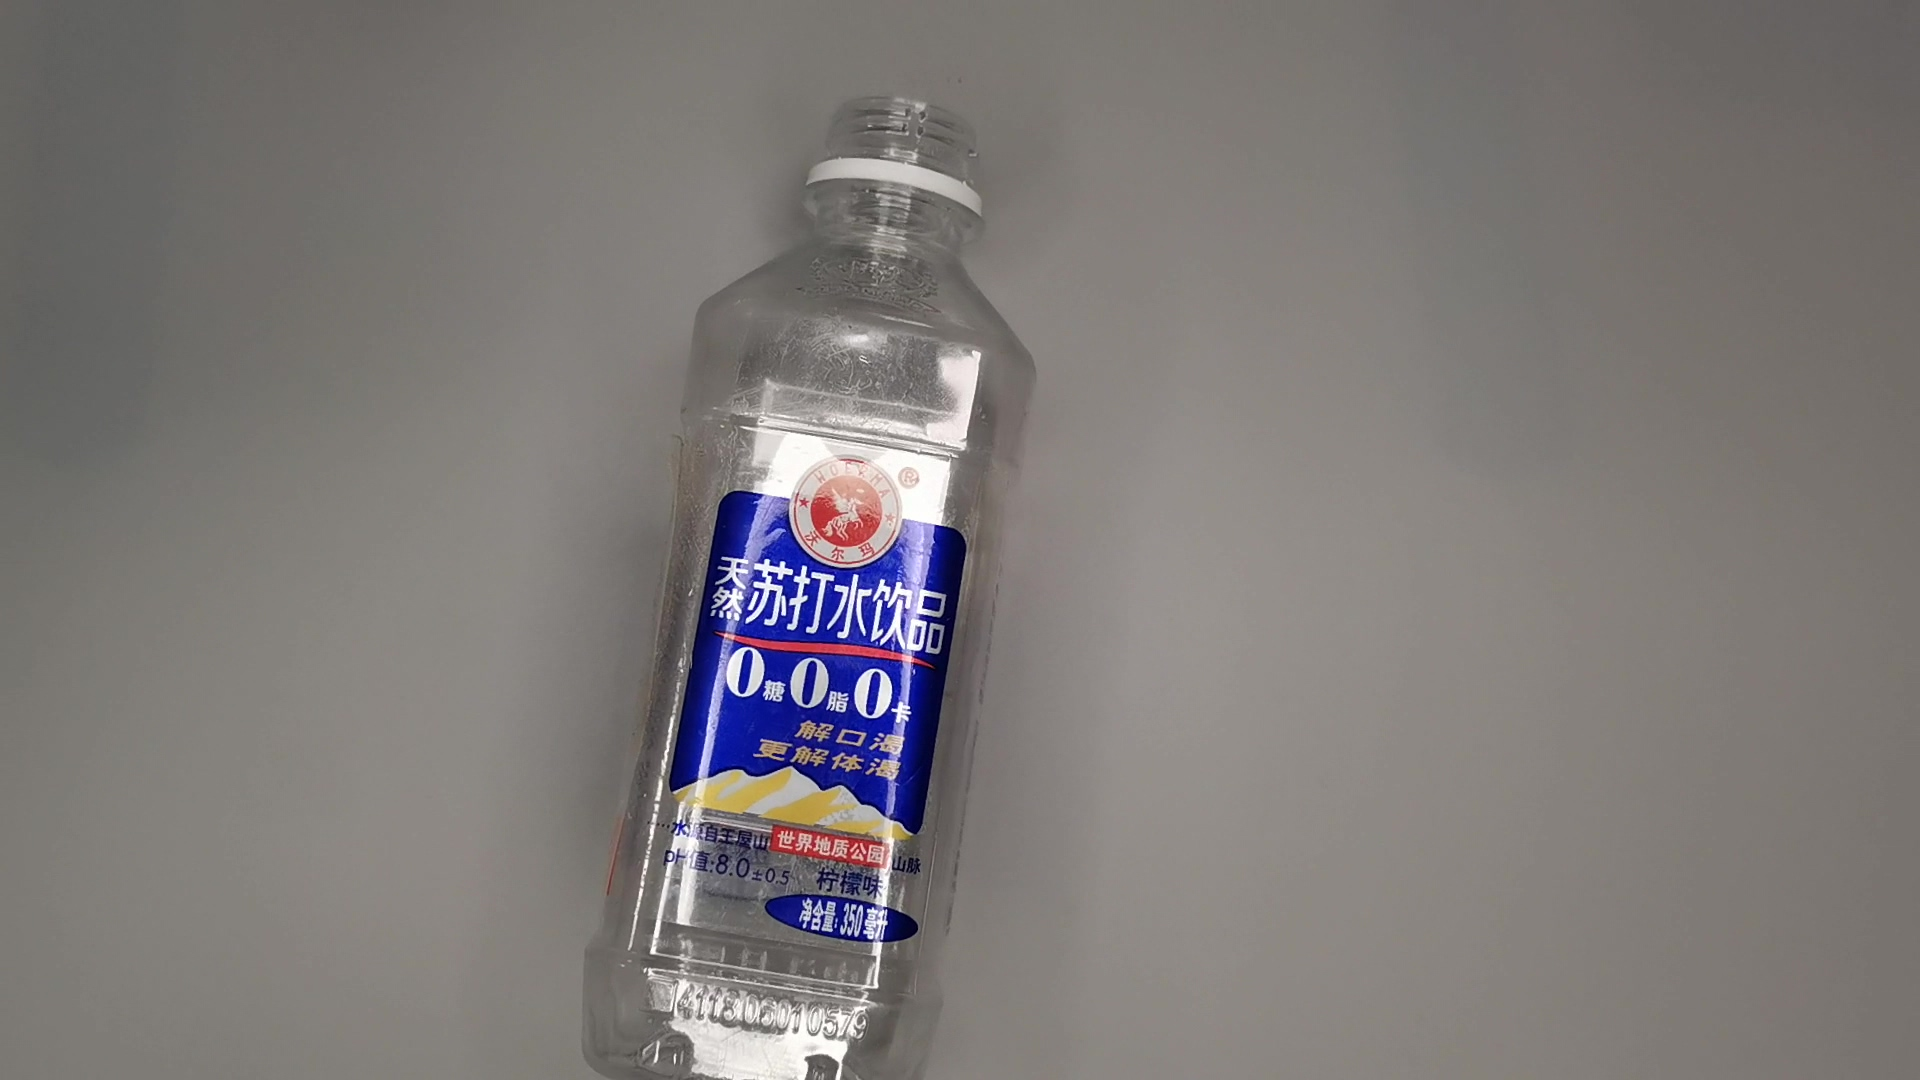bottle: (568, 90, 1044, 1080)
